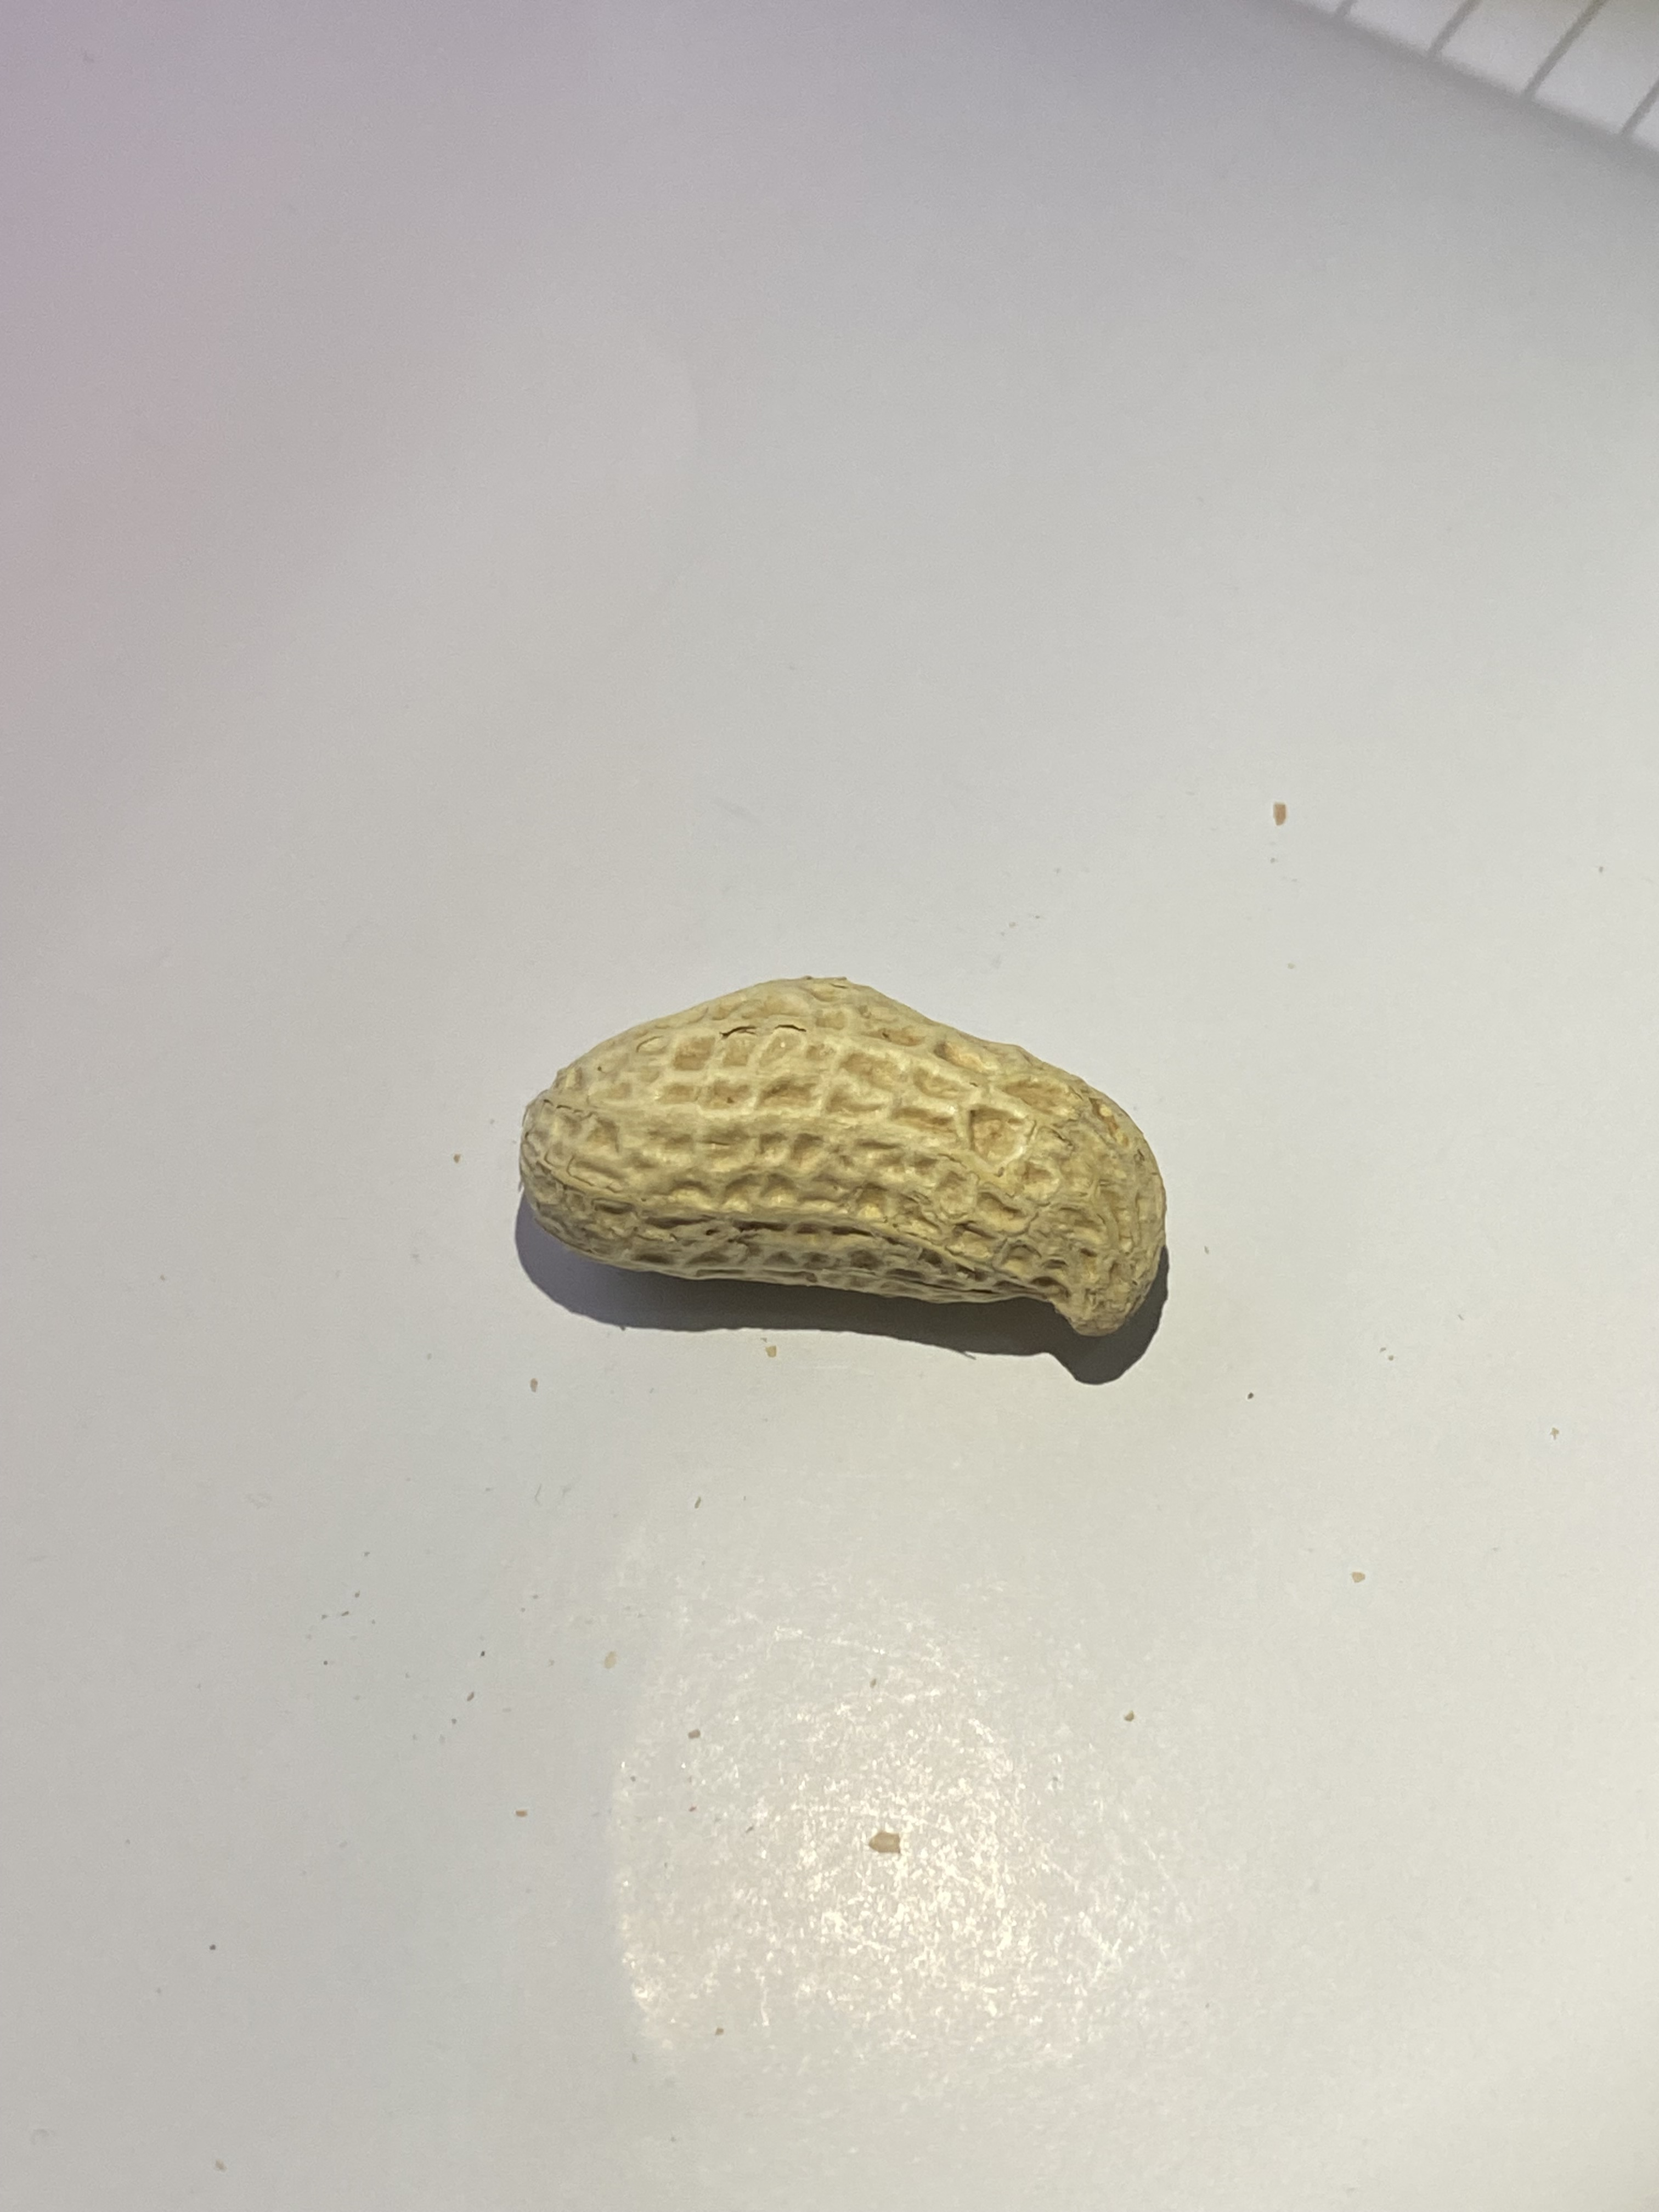kacang2: (512, 968, 1178, 1379)
